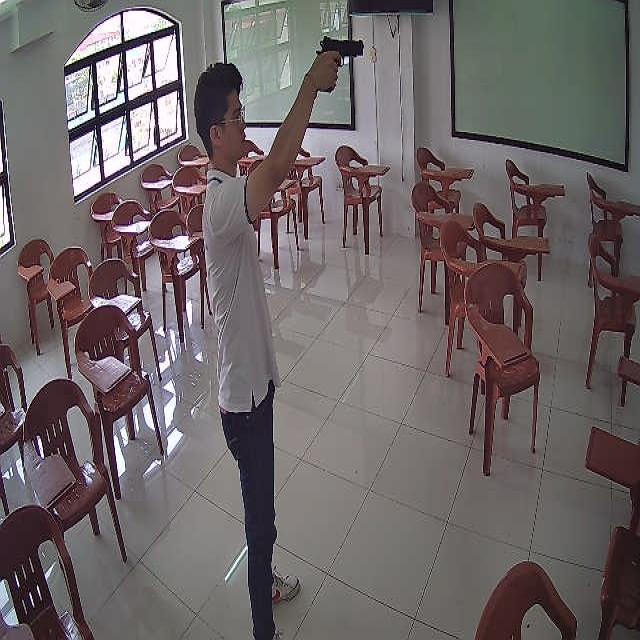pistol: (316, 38, 365, 66)
